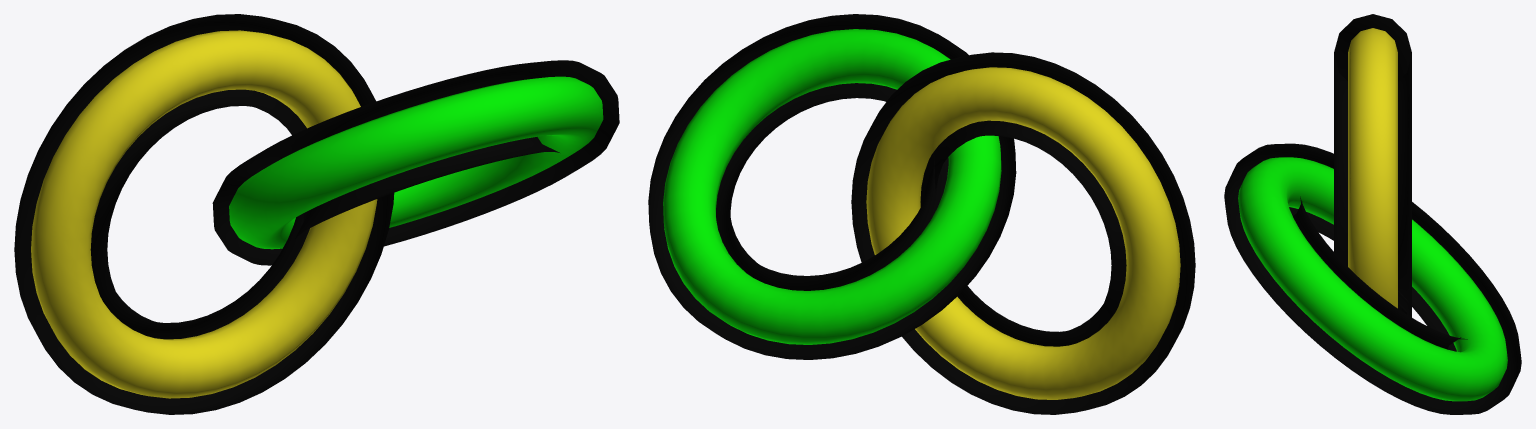
The model's file is two_way_spiral_tutorial_02.glb.
The picture shows the model from 3 angles, left to right: view 1: azimuth 30°, elevation 25°; view 2: azimuth 150°, elevation 25°; view 3: azimuth 270°, elevation 25°; orthographic projection. The views are drawn at different scales.
Parts seen in each view (by area): view 1: Torus.345, Torus.347; view 2: Torus.347, Torus.345; view 3: Torus.347, Torus.345.
Part boxes in pixels (left/top/right/bottom): Torus.345: left=14, top=14, right=394, bottom=414; Torus.347: left=212, top=60, right=619, bottom=265; Torus.347: left=648, top=14, right=1016, bottom=359; Torus.345: left=851, top=52, right=1195, bottom=414; Torus.347: left=1224, top=143, right=1521, bottom=414; Torus.345: left=1334, top=14, right=1411, bottom=317.
Size of the model in its own units: 4.03 by 2.56 by 2.13.
